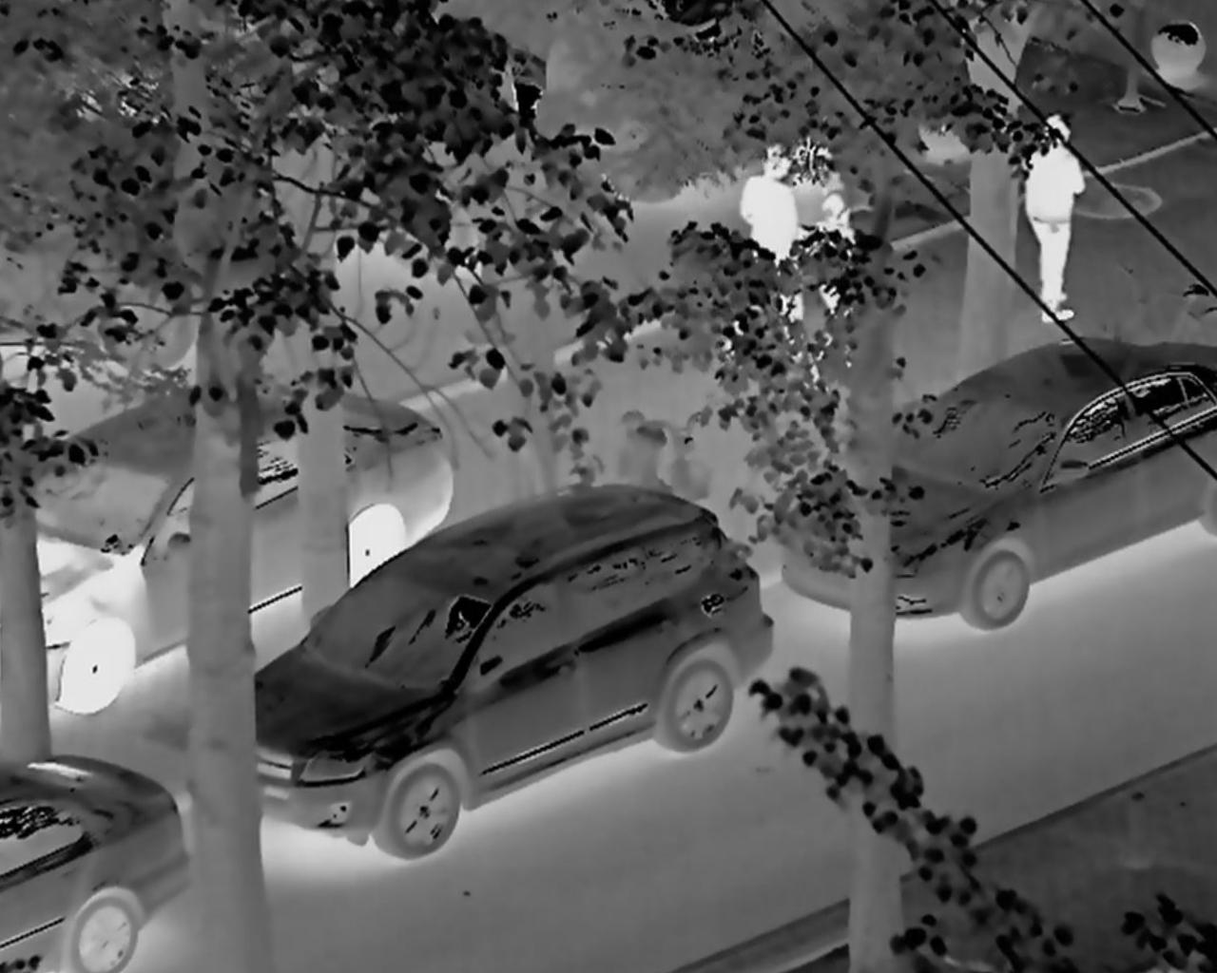person: (718, 131, 807, 352), (1009, 102, 1092, 328), (804, 159, 868, 316)
